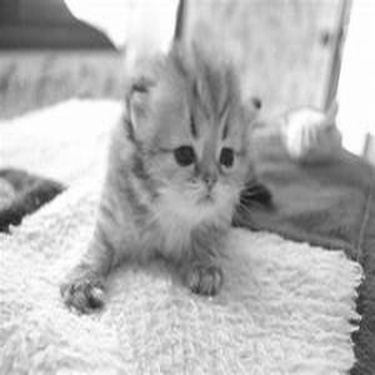cat: (58, 42, 279, 317)
